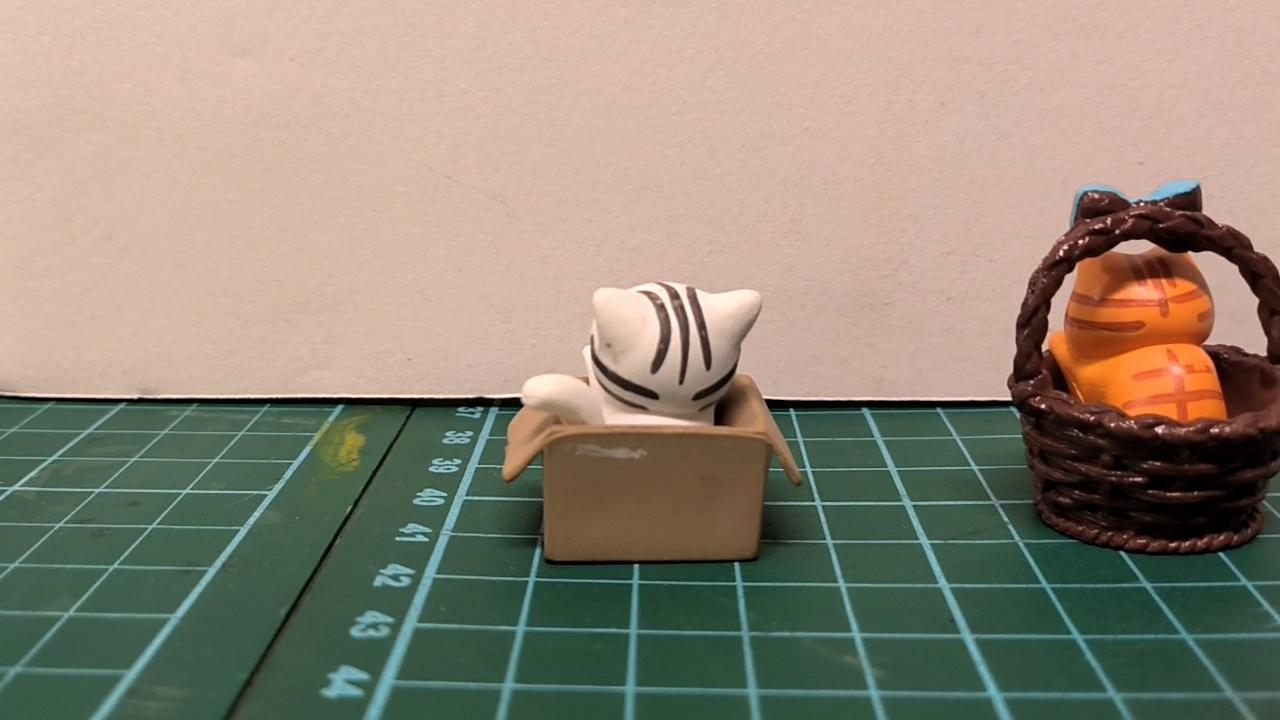pet: (517, 275, 770, 435), (1038, 233, 1238, 430)
